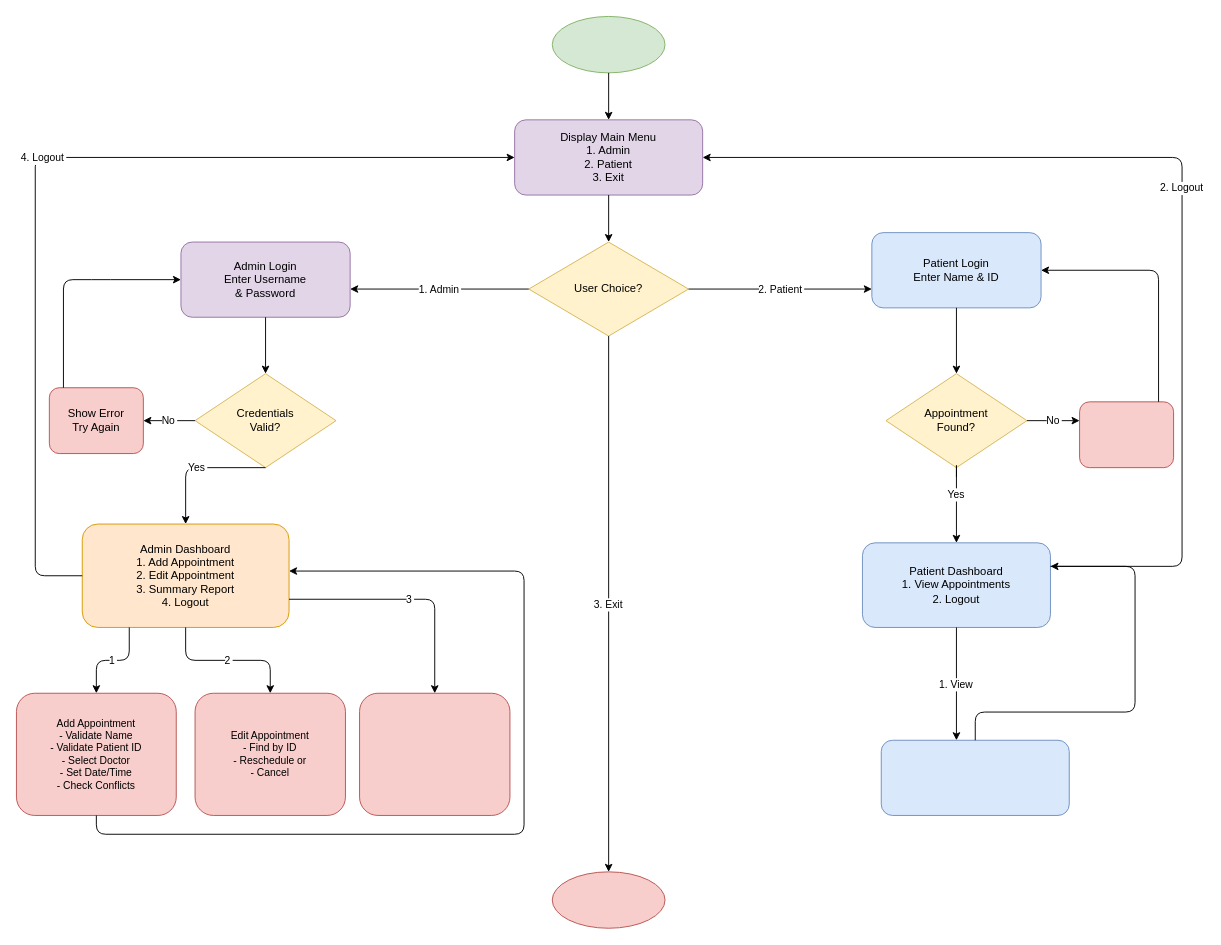
This 1221x945 diagram has some shape labels left out. Each missing label, with the box of its shape:
END: (551, 871, 665, 928)
Not Found Try Again: (1079, 401, 1174, 468)
START: (551, 16, 665, 73)
Summary Report - Display All Appointments: (359, 692, 510, 815)
View Appointments Display Appointment Details: (880, 739, 1069, 815)
